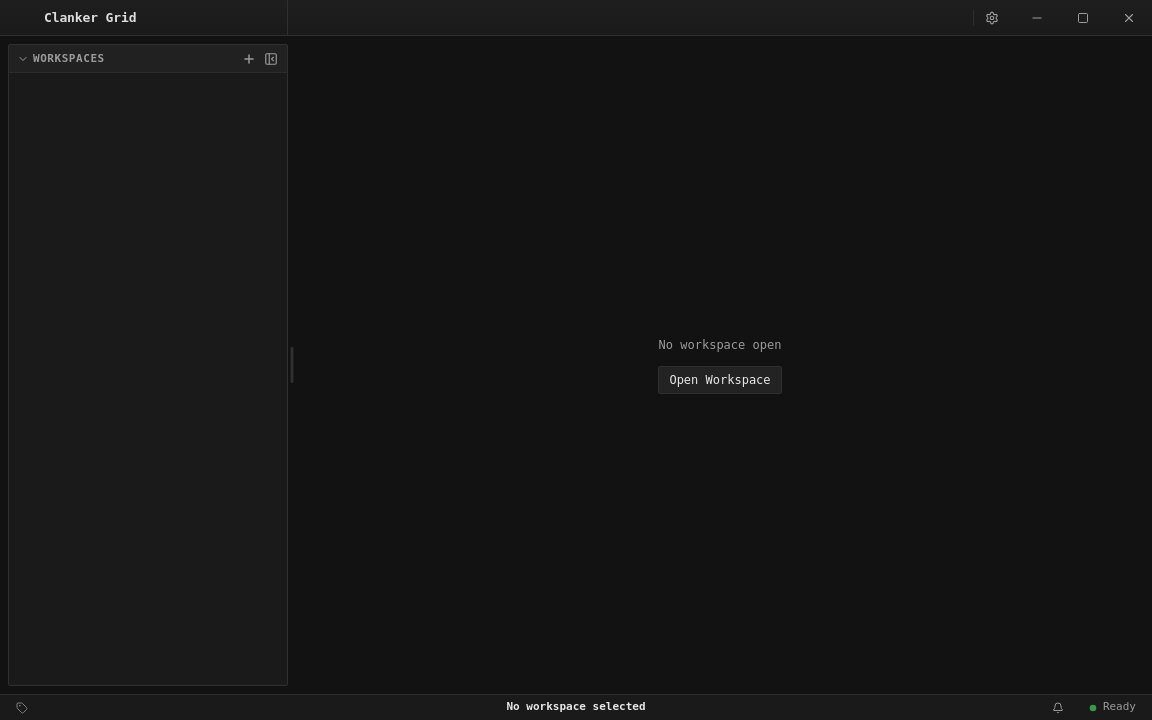
normal application shell and workspace identity opening › releases the Open Workspace overlay from its original owner after opening a different shell
This screenshot has width=1152, height=720.
Expected: the text "No workspace open" is shown, [659,336,781,354]
Click the button named "Open Workspace".
click(249, 58)  # box [239,48,259,68]
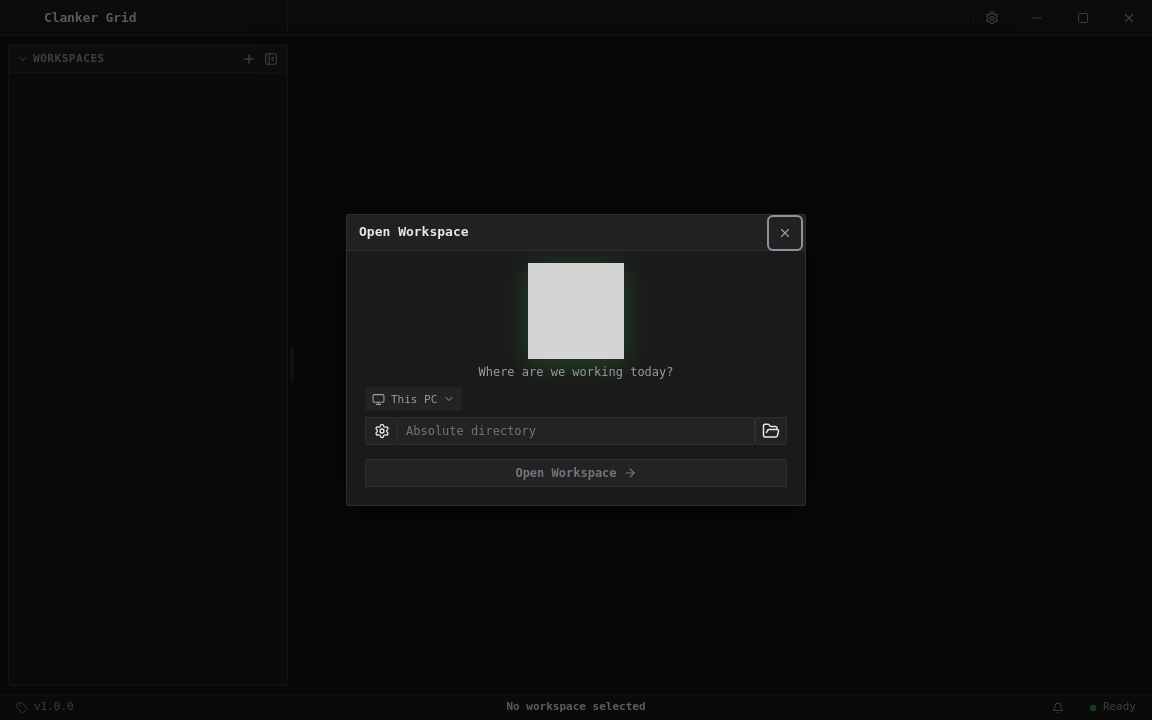
Click the button named "Choose Folder…".
click(771, 431)  # box [755,417,787,445]
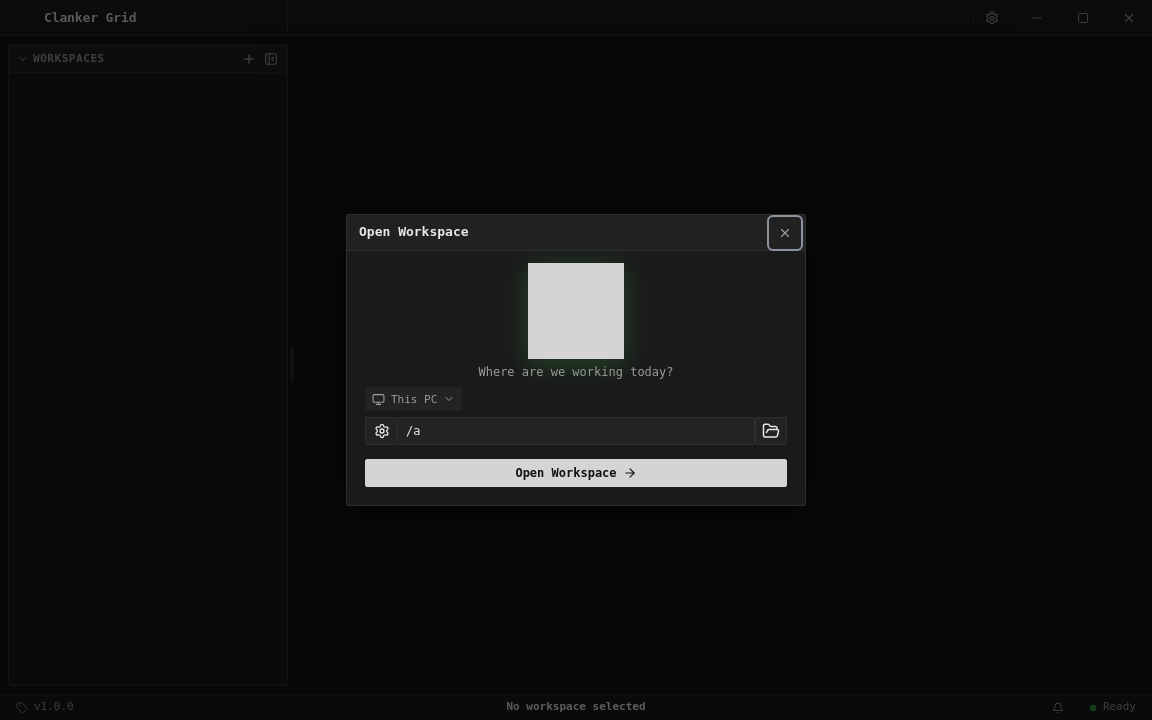
Expected: the field showing "/a" is shown, [397,417,755,445]
Click the button "Open Workspace".
click(576, 473)  # box [365,459,787,487]
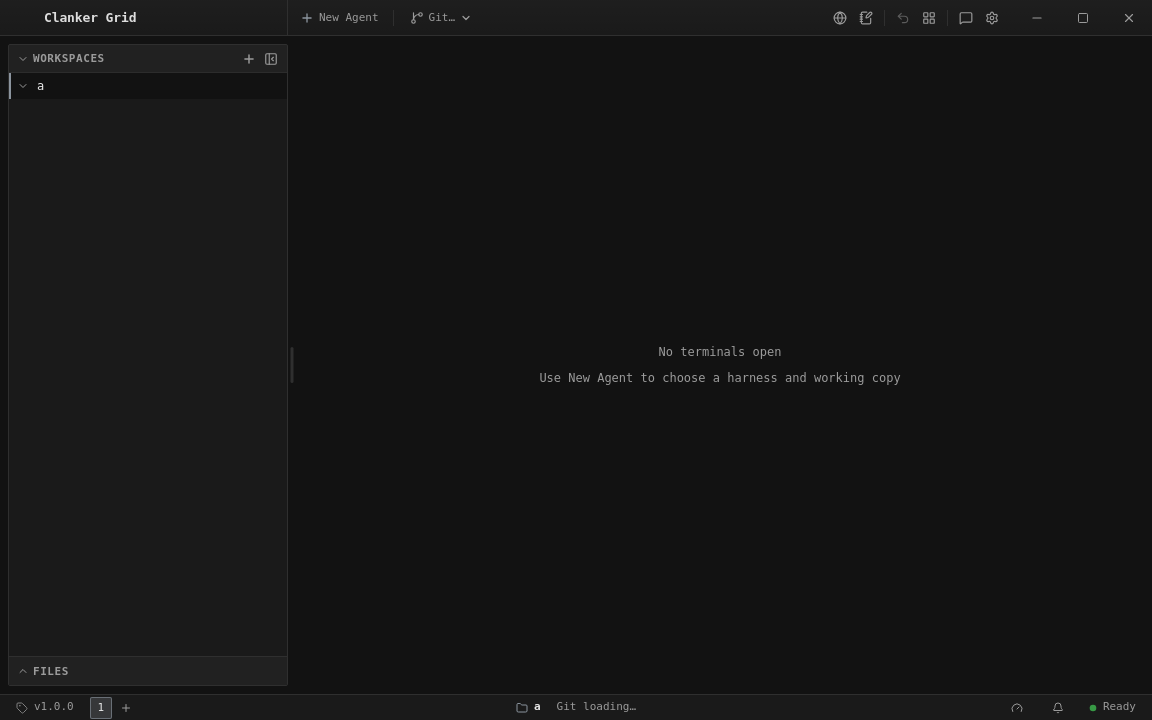
Expected: the button "Open Workspace" is gone
Click the button named "Open Workspace".
click(249, 58)  # box [239,48,259,68]
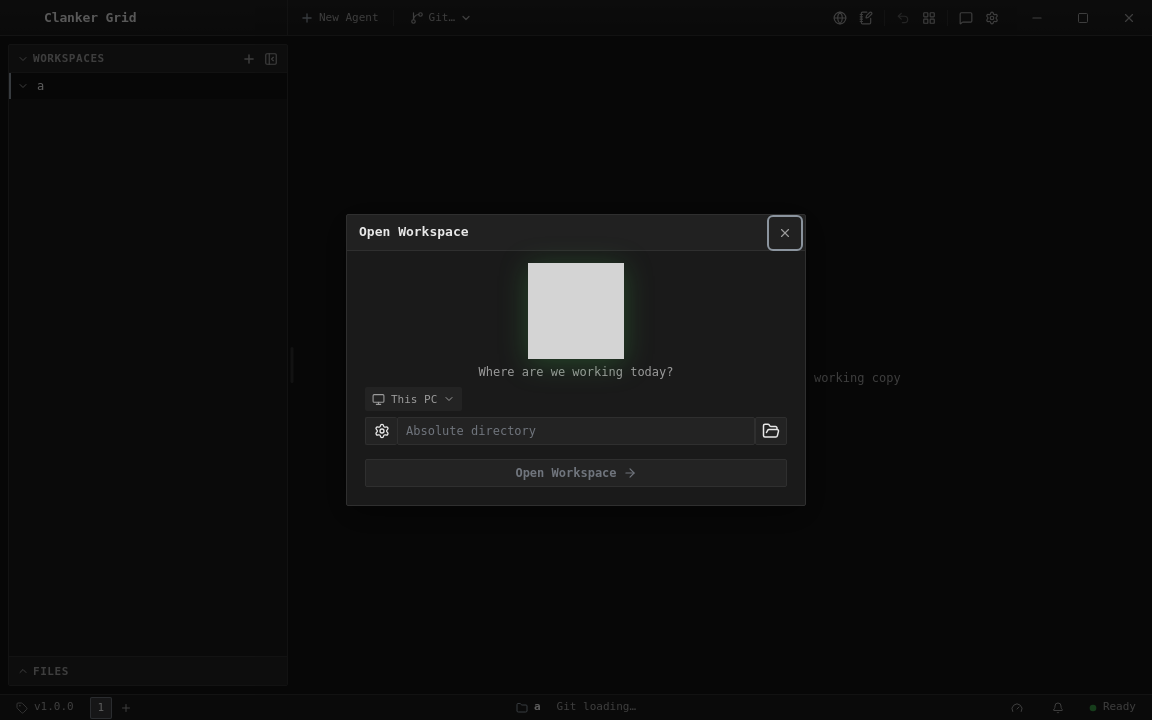
Click the button named "Choose Folder…".
click(771, 431)  # box [755,417,787,445]
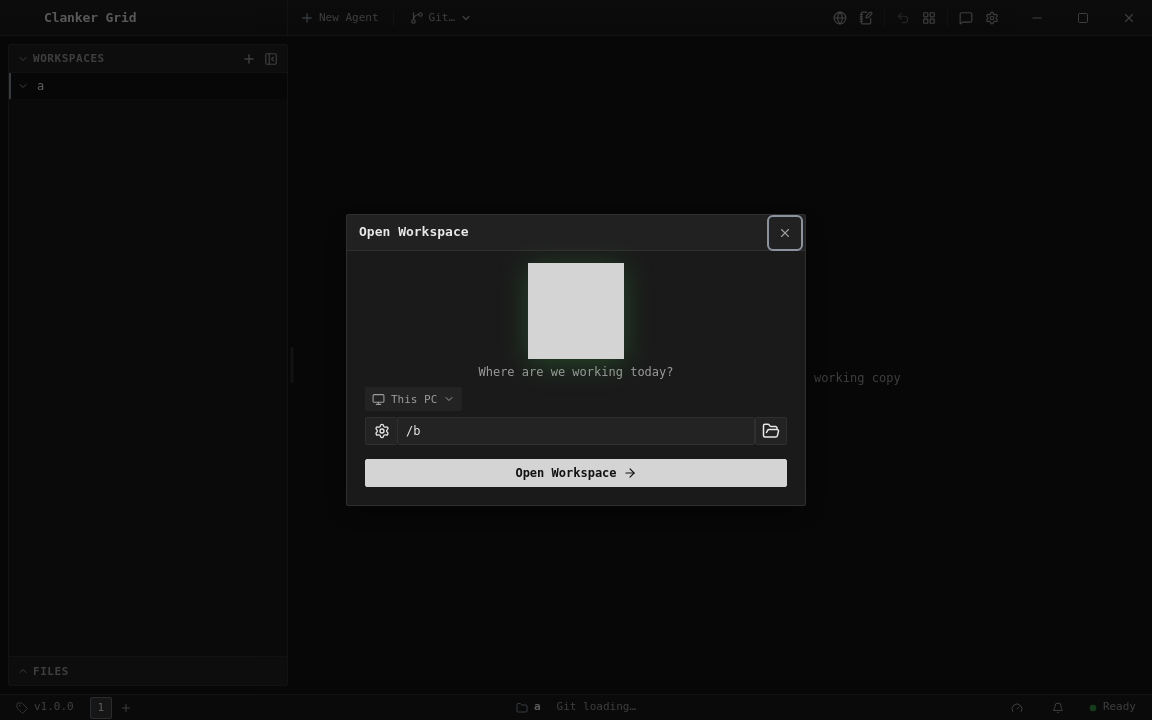
Expected: the field showing "/b" is shown, [397,417,755,445]
Click the button "Open Workspace".
click(576, 473)  # box [365,459,787,487]
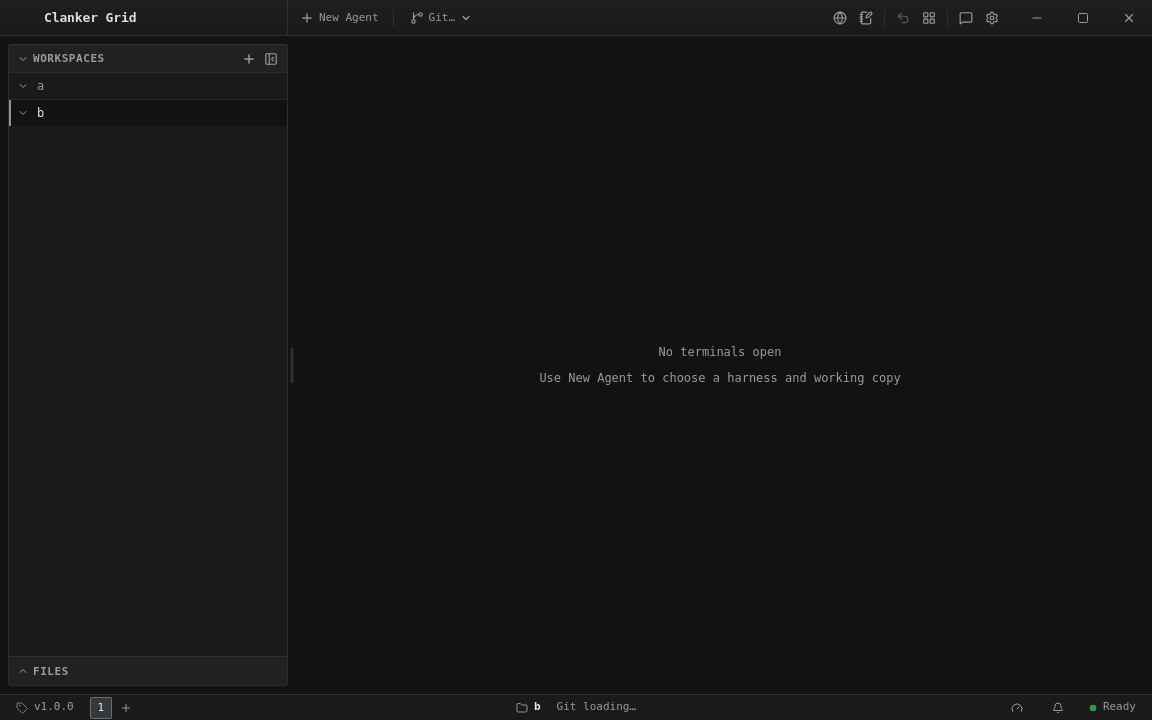
Expected: the heading "Open Workspace" is gone
